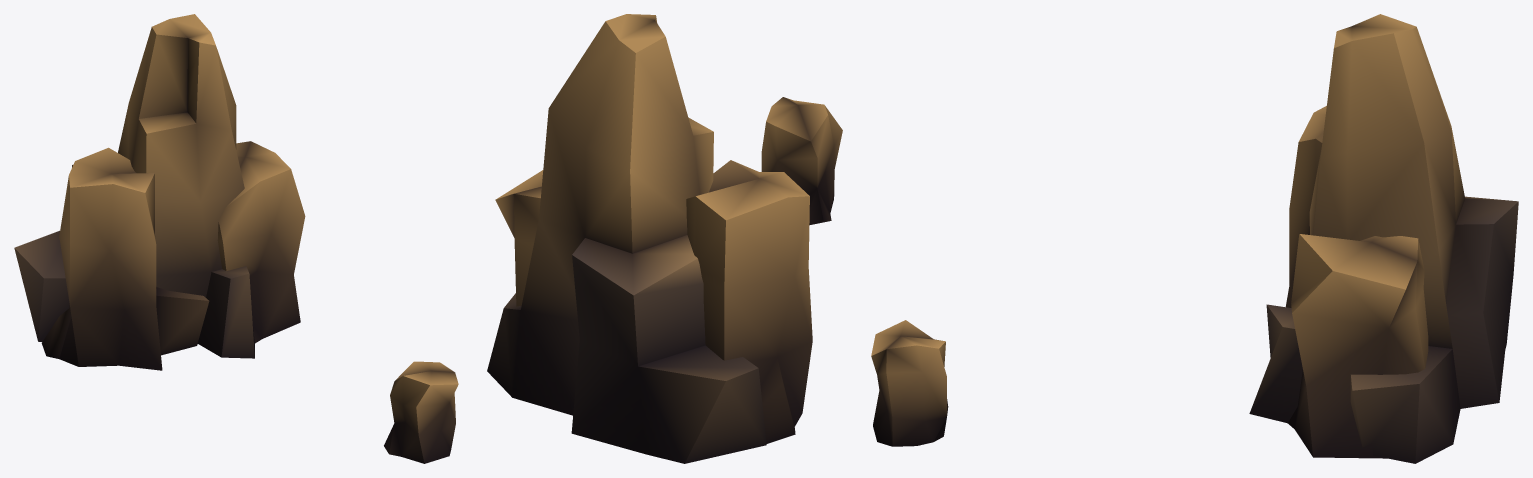
Rendered from level1RockWhole_grp.fbx.
The picture shows the model from 3 angles, left to right: view 1: azimuth 30°, elevation 25°; view 2: azimuth 150°, elevation 25°; view 3: azimuth 270°, elevation 25°; orthographic projection. The views are drawn at different scales.
Parts seen in each view (by area): view 1: rockLrg_01, rockMed_01, rockSml_01, rockSml_02; view 2: rockLrg_01, rockMed_01, rockSml_02, rockSml_01; view 3: rockLrg_01, rockSml_01, rockSml_02, rockMed_01.
Part boxes in pixels (x1,y1,x2,y2): rockLrg_01: (14,14,254,358); rockMed_01: (41,147,209,370); rockSml_01: (217,141,305,343); rockSml_02: (384,361,458,463); rockLrg_01: (487,14,766,463); rockMed_01: (686,160,812,443); rockSml_02: (761,97,842,225); rockSml_01: (495,170,543,306); rockLrg_01: (1249,14,1518,463); rockSml_01: (1287,234,1428,458); rockSml_02: (871,320,948,446); rockMed_01: (1285,105,1326,307).
Size of the model in its own units: 201 by 243 by 375.
